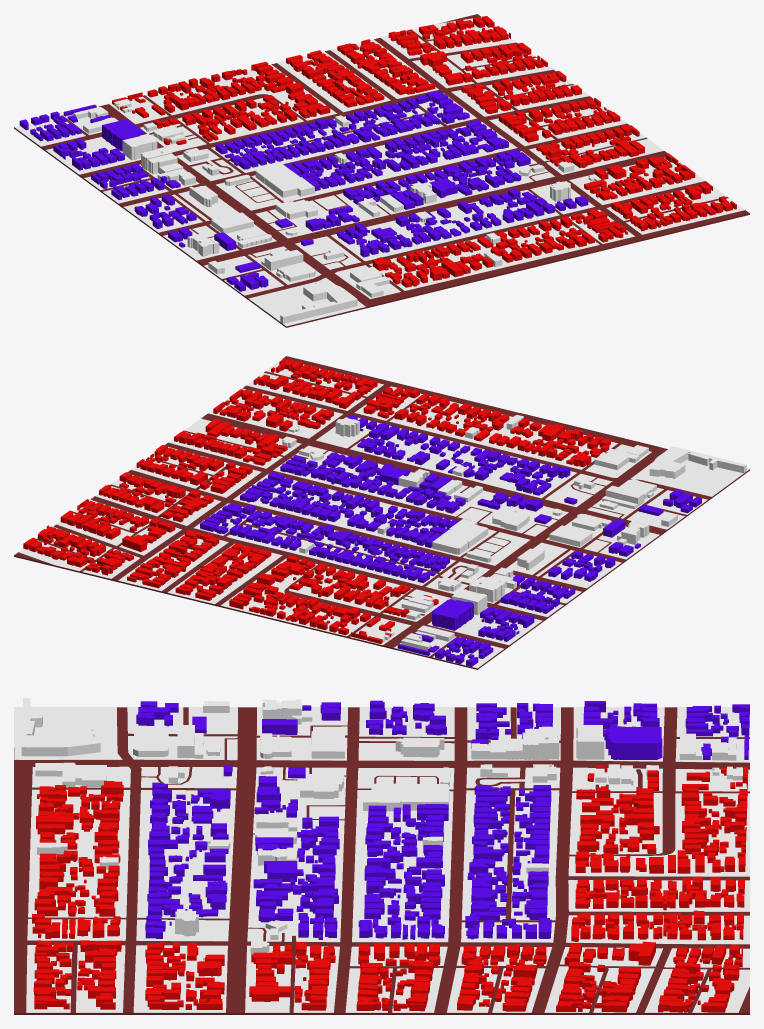
Rendered from xxx.glb.
3 renders of one model, top to bottom at view 1: azimuth 30°, elevation 25°; view 2: azimuth 150°, elevation 25°; view 3: azimuth 270°, elevation 25°, orthographic. The views are drawn at different scales.
Parts seen in each view (by area): view 1: road0, block43, block33, block32, block41, block20, other45, block5, block55, other42, block6, block25 (+19 smaller); view 2: road0, block43, block33, block41, block32, block20, other45, block5, other42, block55, block24, block6 (+18 smaller); view 3: road0, block32, block43, block33, block41, block5, block20, block55, other45, block24, block6, block22 (+54 smaller).
Part boxes in pixels (x1,y1,x2,y2): road0: [14, 14, 749, 327]; block43: [330, 190, 559, 261]; block33: [269, 151, 548, 238]; block32: [251, 122, 517, 202]; block41: [369, 219, 599, 290]; block20: [248, 277, 365, 326]; other45: [280, 279, 357, 323]; block5: [145, 64, 337, 120]; block55: [569, 157, 705, 205]; other42: [255, 164, 314, 197]; block6: [177, 98, 303, 143]; block25: [229, 115, 443, 172]; road0: [14, 356, 749, 669]; block43: [350, 425, 576, 498]; block33: [273, 451, 568, 533]; block41: [389, 396, 617, 469]; block32: [233, 473, 496, 556]; block20: [630, 459, 749, 496]; other45: [649, 446, 746, 478]; block5: [220, 558, 374, 636]; other42: [432, 518, 488, 554]; block55: [208, 388, 342, 438]; block24: [226, 525, 437, 585]; block6: [289, 567, 412, 612]; road0: [14, 707, 749, 1014]; block32: [352, 790, 453, 942]; block43: [137, 790, 236, 918]; block33: [248, 767, 346, 942]; block41: [28, 789, 130, 917]; block5: [568, 793, 749, 876]; block20: [14, 707, 122, 759]; block55: [133, 945, 227, 1012]; other45: [21, 698, 100, 756]; block24: [511, 790, 559, 920]; block6: [569, 793, 662, 854]; block22: [568, 880, 749, 911].
Bounding box in the file's own units: 683 × 20.9 × 695.
